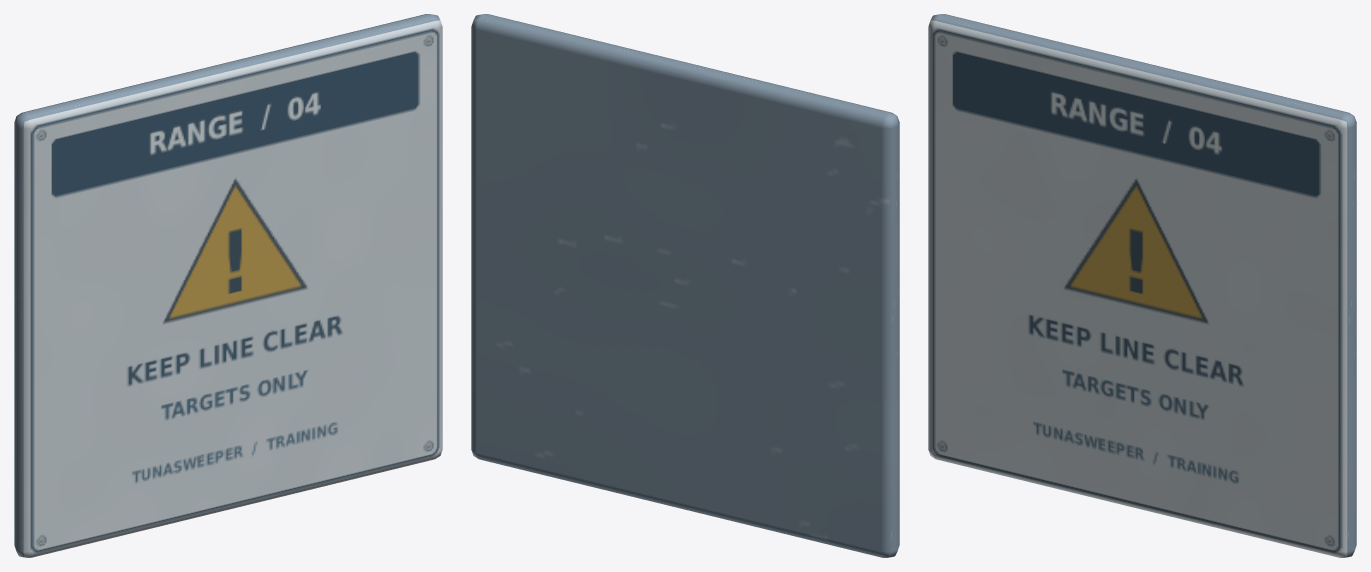
Rendered from SM_SafetySign.glb.
3 renders of one model, left to right at view 1: azimuth 30°, elevation 25°; view 2: azimuth 150°, elevation 25°; view 3: azimuth 330°, elevation 25°, orthographic.
Visible parts, largest first — view 1: SM_SafetySign; view 2: SM_SafetySign; view 3: SM_SafetySign.
Part boxes in pixels (box(x1,y1,x2,y2)): SM_SafetySign: box(14, 14, 442, 557); SM_SafetySign: box(471, 14, 899, 557); SM_SafetySign: box(928, 14, 1356, 557).
Size of the model in its own units: 0.57 by 0.57 by 0.03.
1 material, 1 textured.
